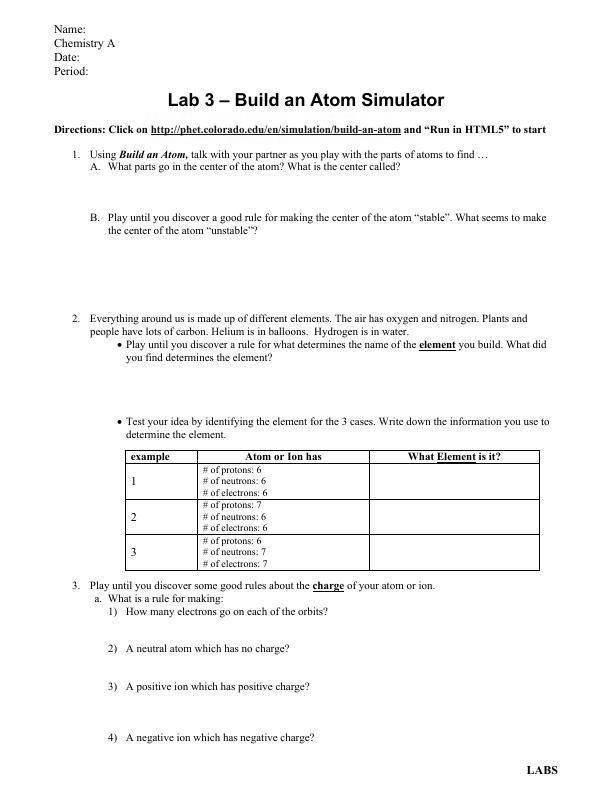table: (121, 447, 546, 576)
text: (60, 308, 558, 369), (83, 201, 554, 243), (69, 142, 493, 177), (122, 416, 561, 442), (72, 579, 445, 606), (49, 121, 549, 139), (163, 86, 448, 108), (47, 20, 131, 81), (107, 606, 338, 624), (105, 729, 321, 748), (104, 678, 315, 697), (100, 639, 295, 659)
